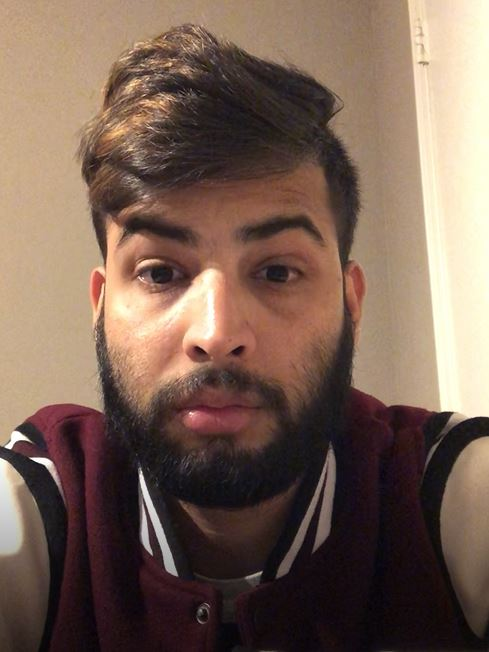Not Sleeping: (116, 238, 339, 316)
